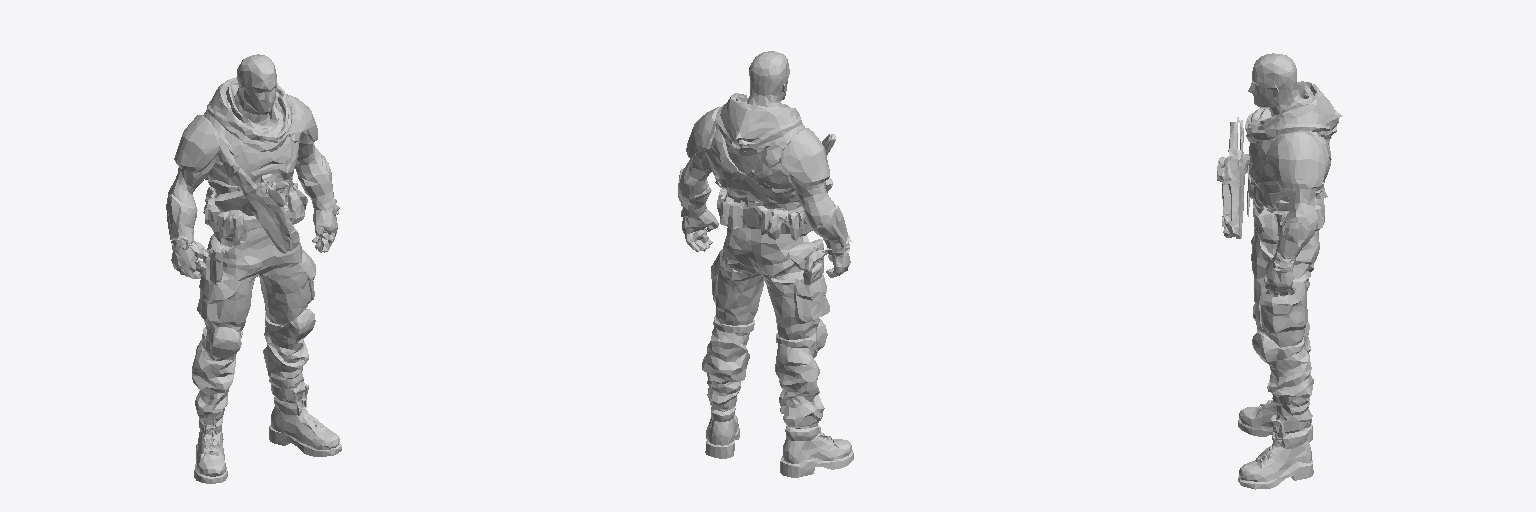
Rendered from Game_Character_Asset_V1.2.obj.
3 views of the same model, side by side, from view 1: azimuth 30°, elevation 25°; view 2: azimuth 150°, elevation 25°; view 3: azimuth 270°, elevation 25° (orthographic).
Visible parts, largest first — view 1: human_game_character__[number redacted]_texture; view 2: human_game_character__[number redacted]_texture; view 3: human_game_character__[number redacted]_texture.
Part boxes in pixels (x1,y1,x2,y2): human_game_character__[number redacted]_texture: (166,54,341,483); human_game_character__[number redacted]_texture: (678,51,853,477); human_game_character__[number redacted]_texture: (1217,53,1342,489).
Bounding box in the file's own units: 0.8613 × 2 × 0.571.